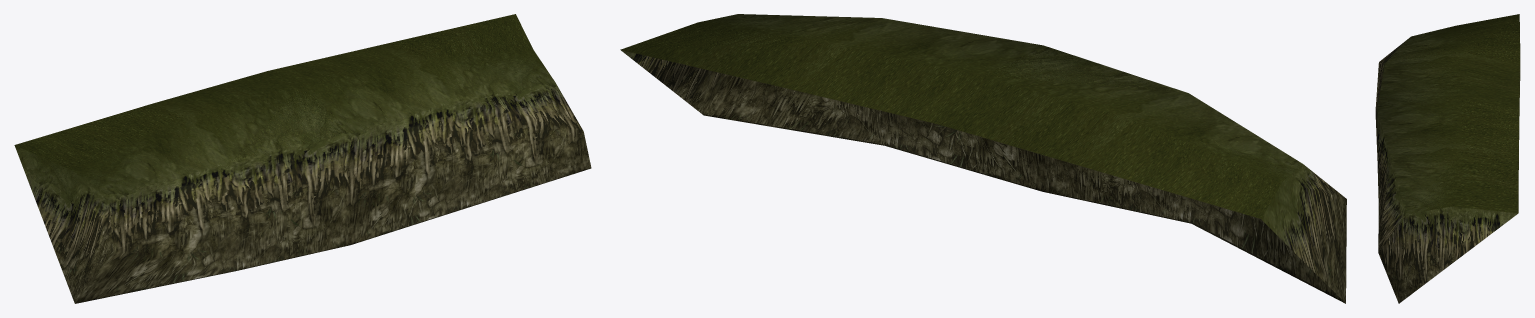
Rendered from MEP_Dirtedge_03.fbx.
The picture shows the model from 3 angles, left to right: view 1: azimuth 30°, elevation 25°; view 2: azimuth 150°, elevation 25°; view 3: azimuth 270°, elevation 25°; orthographic projection. The views are drawn at different scales.
Parts seen in each view (by area): view 1: MEP_DIrtEdge_03; view 2: MEP_DIrtEdge_03; view 3: MEP_DIrtEdge_03.
Part boxes in pixels (box(x1,y1,x2,y2)): MEP_DIrtEdge_03: box(14, 14, 591, 303); MEP_DIrtEdge_03: box(620, 14, 1346, 303); MEP_DIrtEdge_03: box(1375, 14, 1520, 303).
Size of the model in its own units: 18.88 by 4.84 by 5.49.
